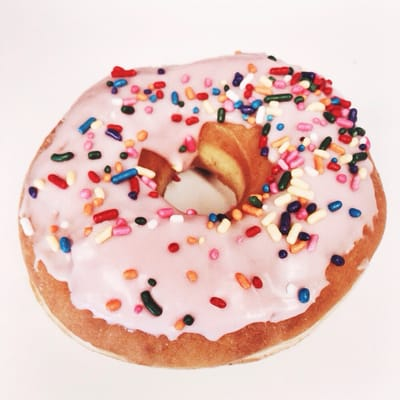salad: (16, 60, 387, 379)
